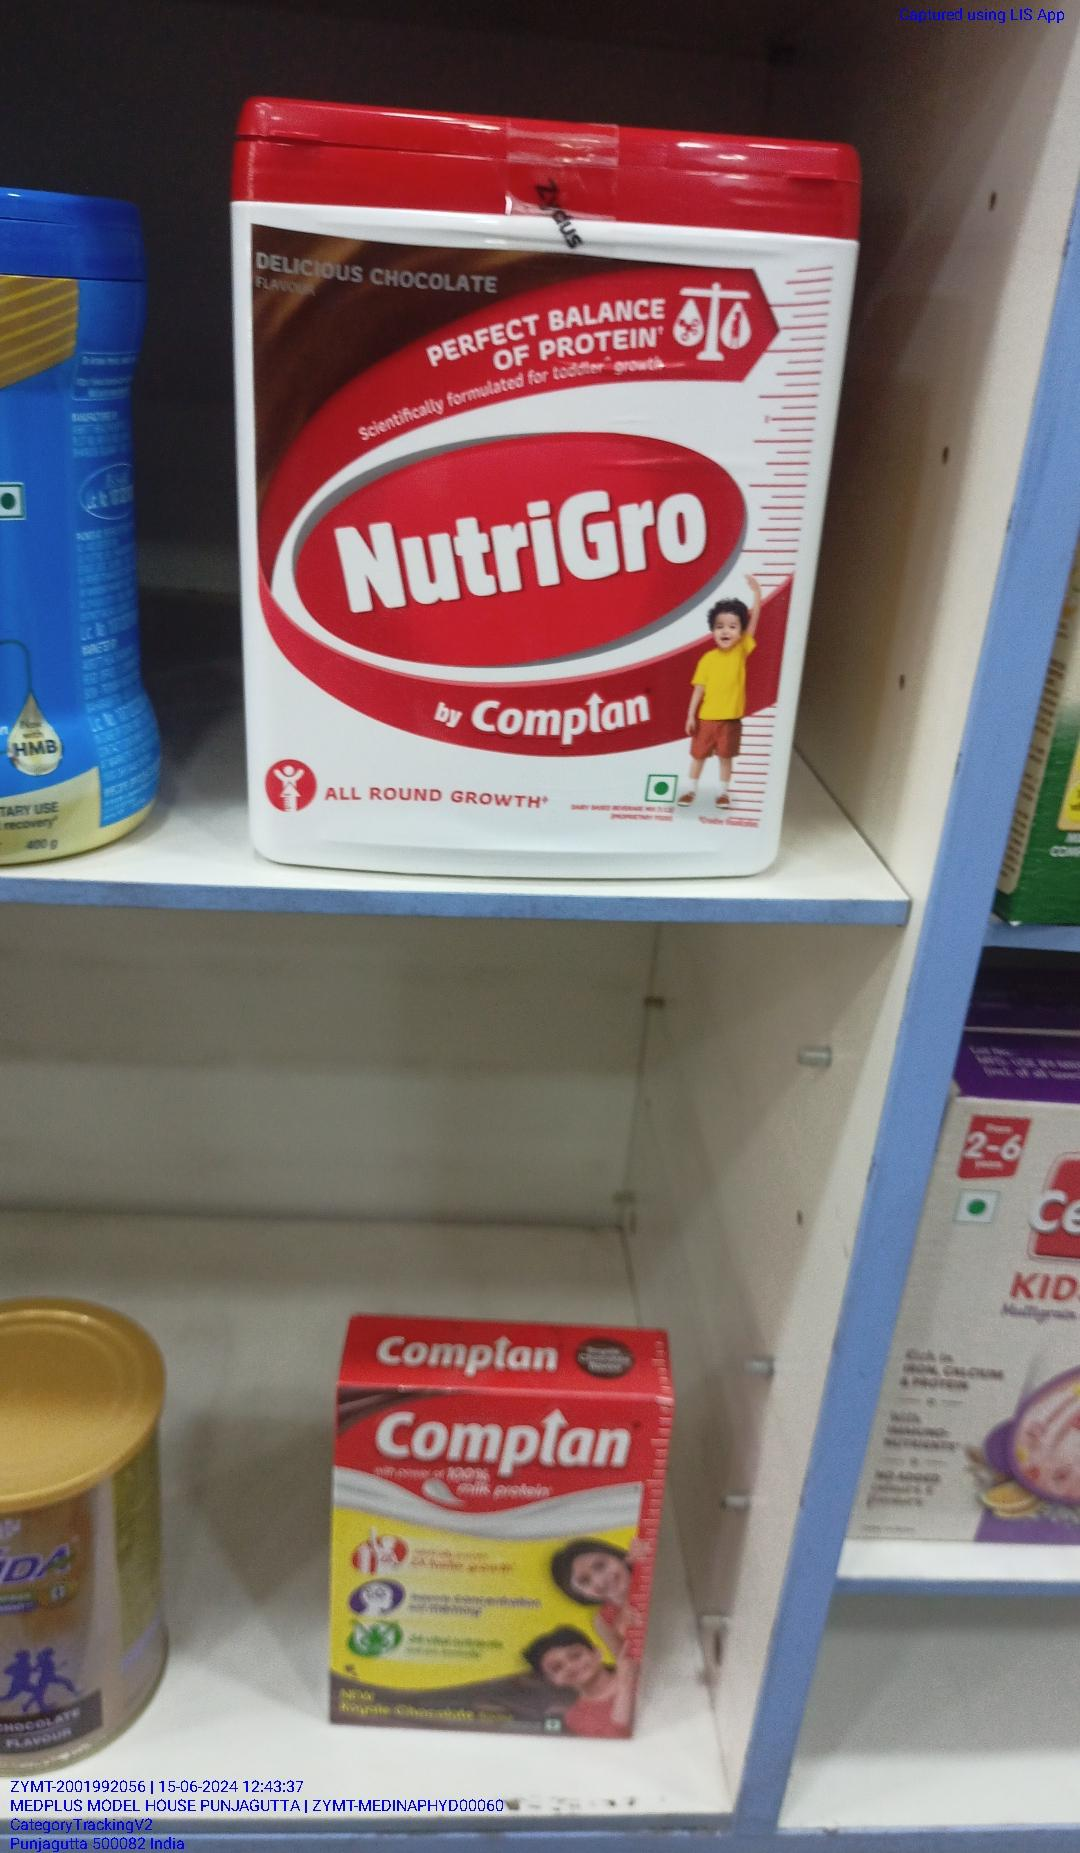COMPLAN_CHOCOLATE_200_GMS_PACK: (334, 1376, 642, 1733)
